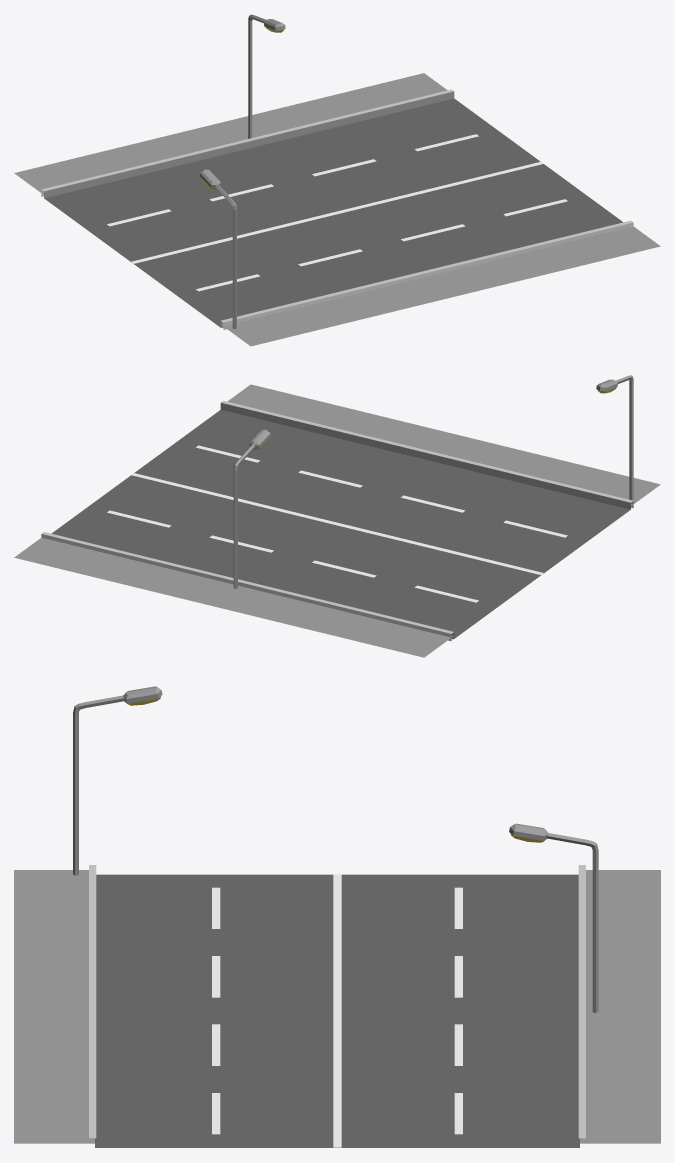
File: road_tile_2x2_005.glb
3 renders of one model, top to bottom at view 1: azimuth 30°, elevation 25°; view 2: azimuth 150°, elevation 25°; view 3: azimuth 270°, elevation 25°, orthographic. The views are drawn at different scales.
Parts seen in each view (by area): view 1: road_tile_2x2_005; view 2: road_tile_2x2_005; view 3: road_tile_2x2_005.
Part boxes in pixels (x1,y1,x2,y2): road_tile_2x2_005: [14, 14, 660, 346]; road_tile_2x2_005: [14, 375, 660, 657]; road_tile_2x2_005: [14, 686, 660, 1147].
Bounding box in the file's own units: 16 × 5.25 × 16.
Materials: 1 (1 with a texture image).
